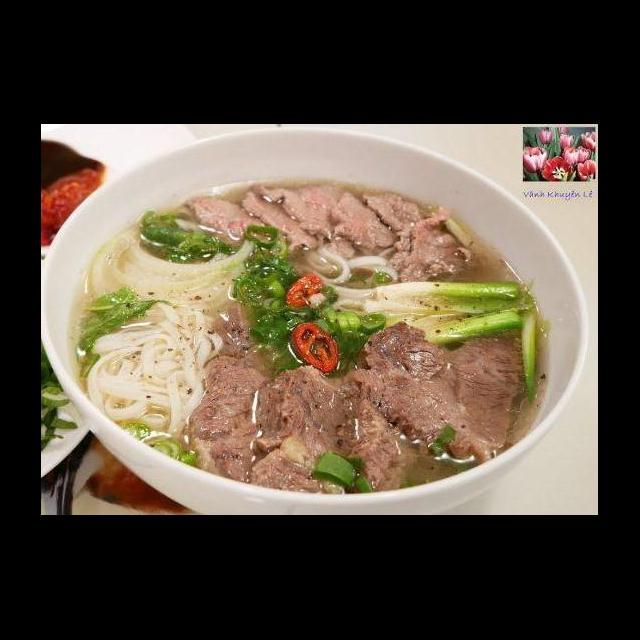banh pho: (78, 288, 226, 444), (296, 244, 404, 318)
pho bo: (41, 155, 598, 516)
thit bo: (348, 318, 532, 471), (242, 361, 428, 496), (182, 299, 296, 492), (252, 180, 366, 264), (188, 188, 294, 254), (398, 208, 480, 288), (235, 186, 328, 256), (322, 186, 407, 262), (356, 186, 430, 250)
